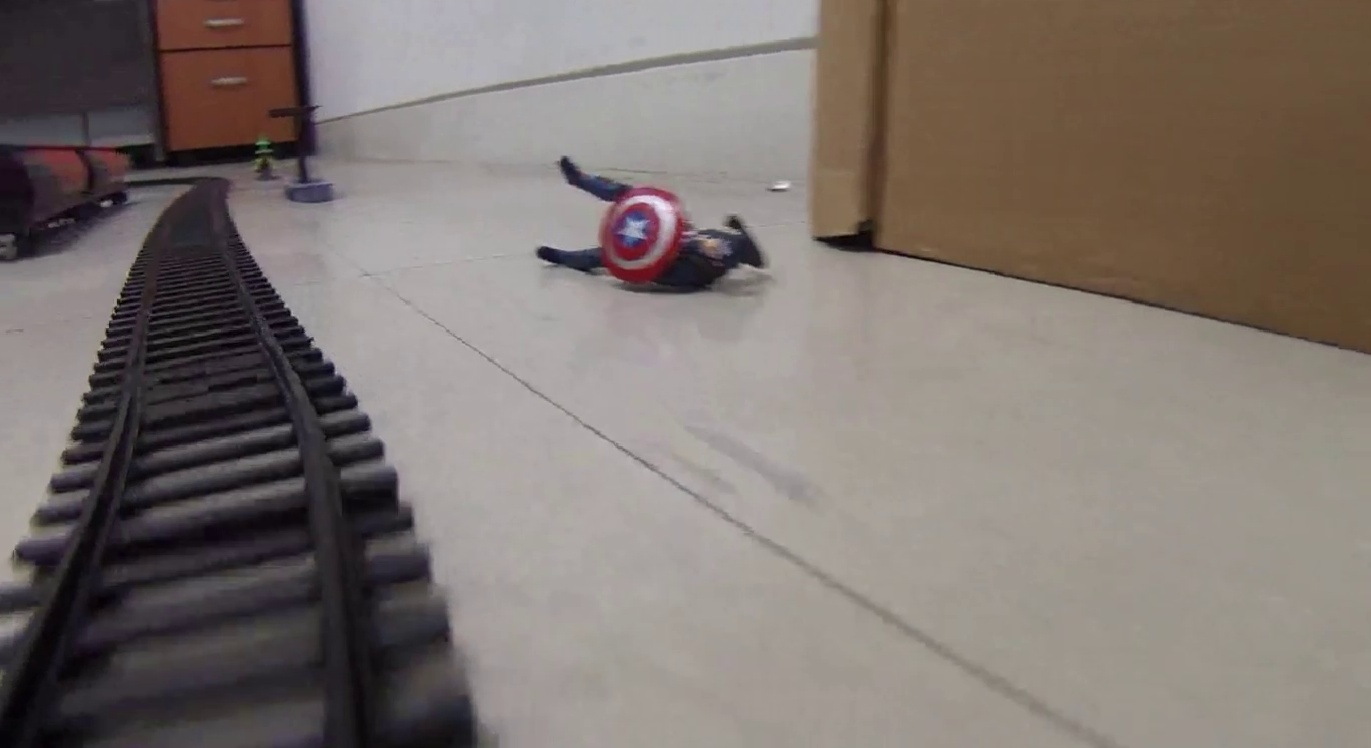people: (535, 157, 772, 292)
